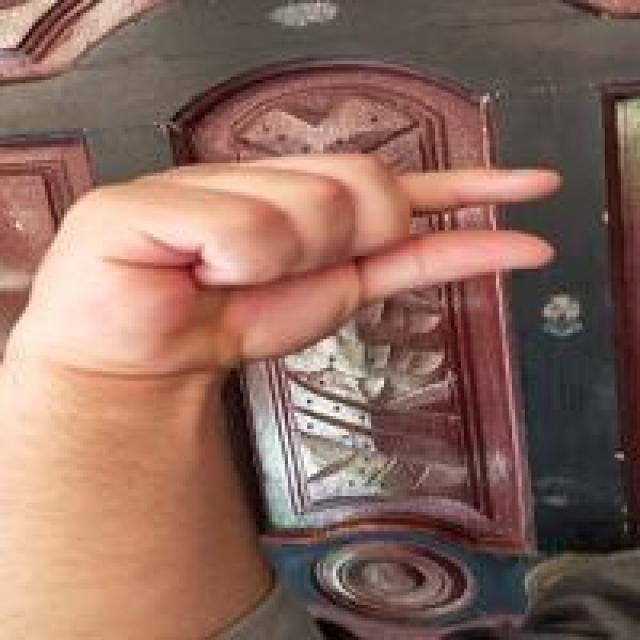G: (18, 148, 571, 374)
